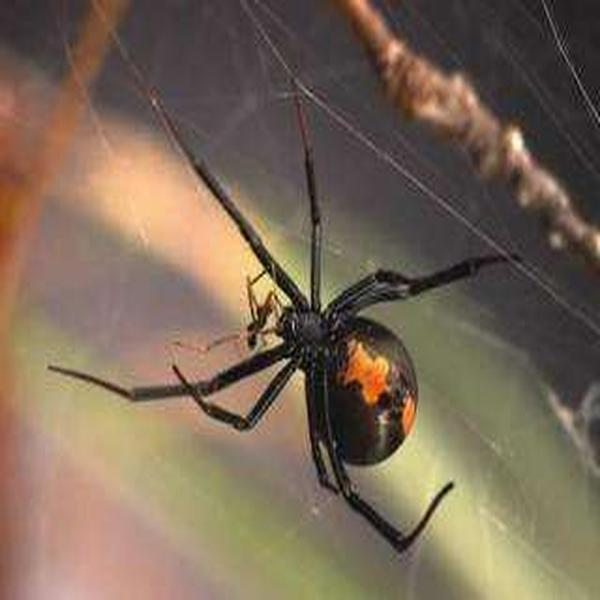Redback Spider: (56, 93, 516, 549)
